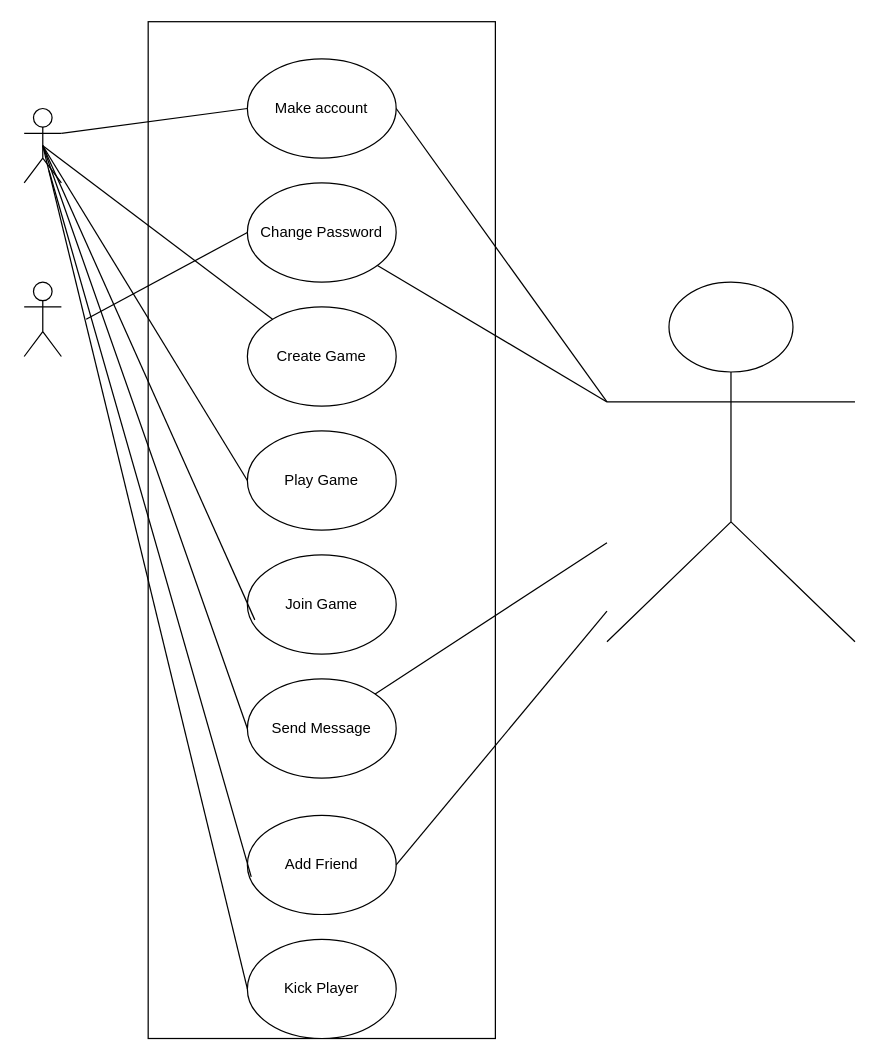
The diagram is 877 pixels wide and 1060 high, and some of its shapes have lost their labels. The box of each missing label's shape, as (x1, y1, x2, y2) in pixels:
Admin: (23, 281, 61, 356)
Database: (606, 281, 855, 642)
User: (23, 107, 61, 183)
